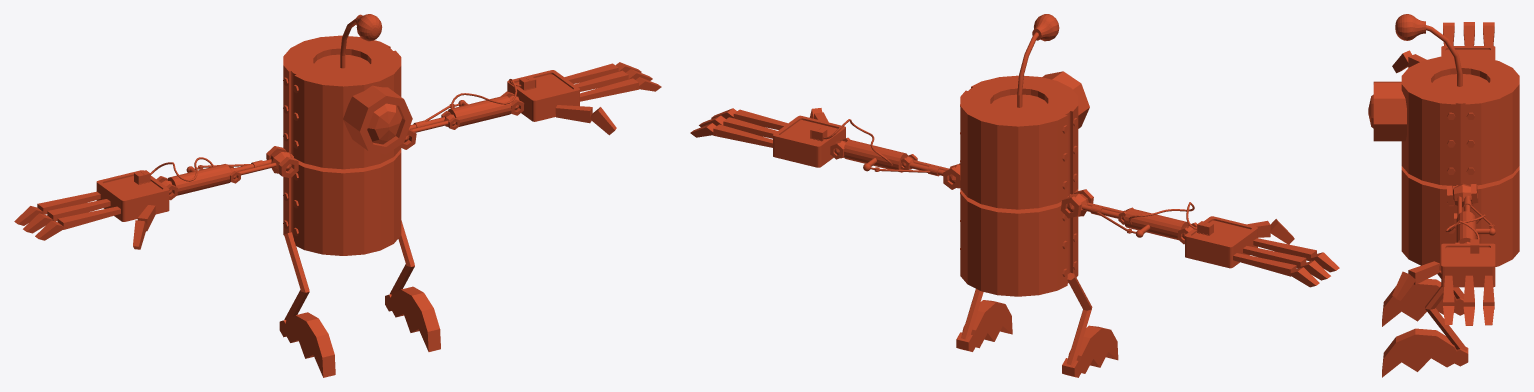
File: lone_android.glb
3 views of the same model, side by side, from view 1: azimuth 30°, elevation 25°; view 2: azimuth 150°, elevation 25°; view 3: azimuth 270°, elevation 25° (orthographic).
Parts seen in each view (by area): view 1: Object001; view 2: Object001; view 3: Object001.
Boxes of the visible parts, box(x1,y1,x2,y2) form: Object001: box(14, 14, 661, 377); Object001: box(690, 14, 1339, 377); Object001: box(1368, 14, 1519, 377).
Size of the model in its own units: 2.41 by 1.25 by 0.513.
